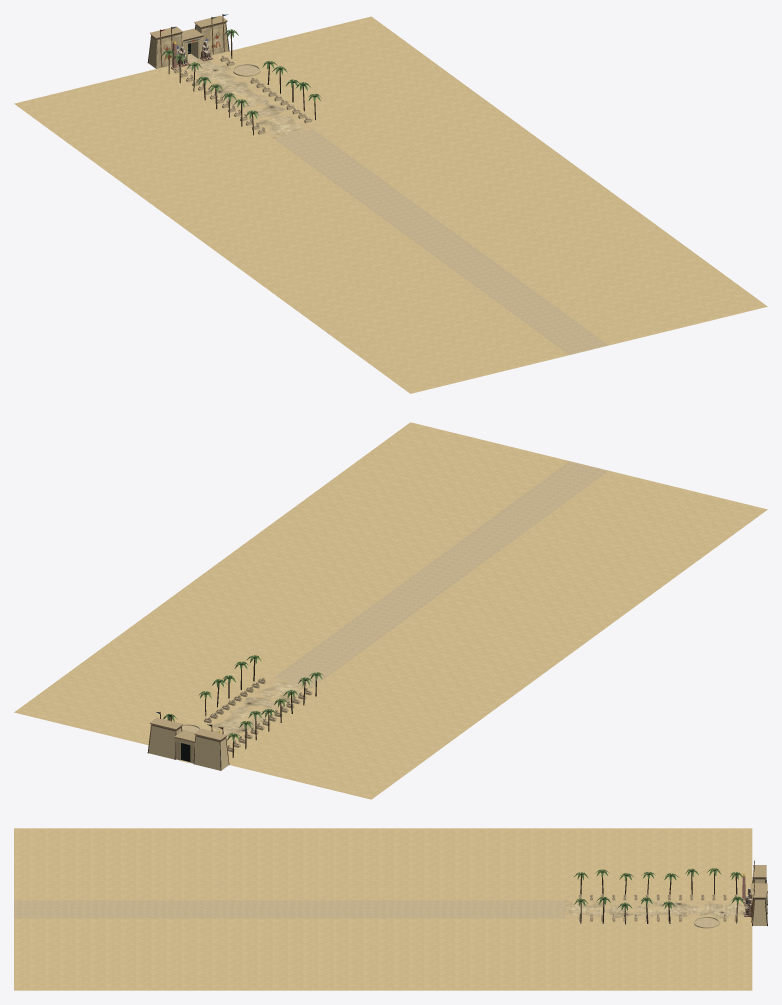
File: lugar-luxor.glb
3 renders of one model, top to bottom at view 1: azimuth 30°, elevation 25°; view 2: azimuth 150°, elevation 25°; view 3: azimuth 270°, elevation 25°, orthographic. The views are drawn at different scales.
Parts seen in each view (by area): view 1: luzG-cerca, luzS-pista, vert-cerca; view 2: luzG-cerca, luzS-pista, vert-cerca; view 3: luzG-cerca, luzS-pista, vert-cerca.
Part boxes in pixels (box(x1,y1,x2,y2)): luzG-cerca: box(14, 16, 767, 393); luzS-pista: box(148, 15, 312, 138); vert-cerca: box(147, 14, 321, 135); luzG-cerca: box(14, 422, 767, 799); luzS-pista: box(148, 677, 312, 770); vert-cerca: box(147, 655, 324, 770); luzG-cerca: box(14, 828, 752, 990); luzS-pista: box(565, 865, 767, 928); vert-cerca: box(574, 860, 767, 925).
Size of the model in its own units: 152 by 15.31 by 298.
18 materials, 12 textured.
